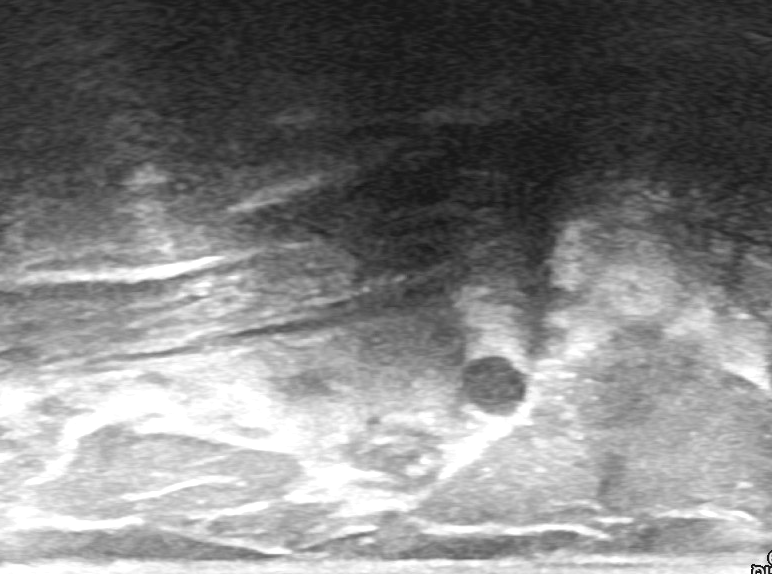Benign: (456, 347, 534, 423)
